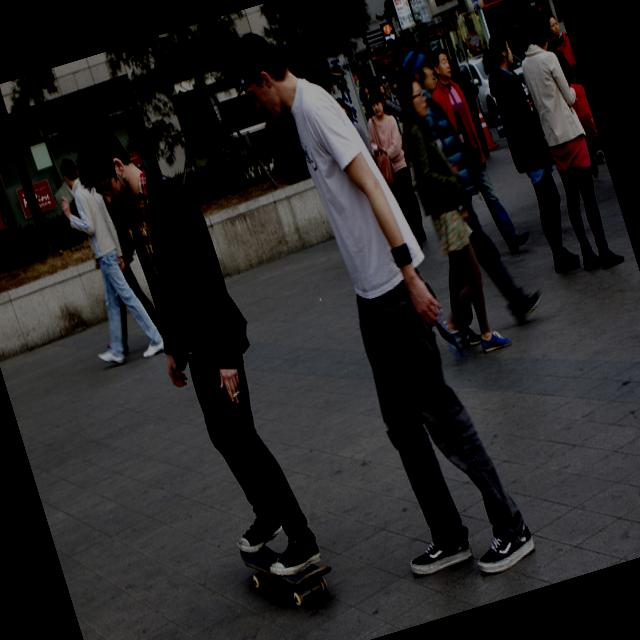Vehicle: (458, 43, 536, 127)
